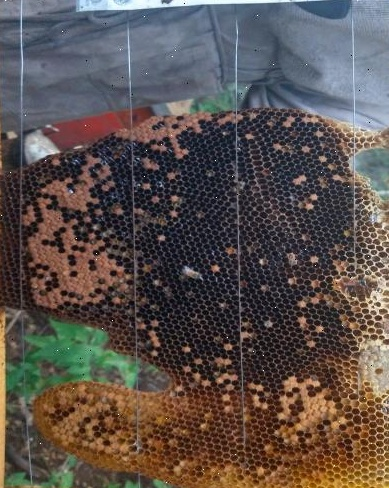cria: (20, 155, 162, 356), (115, 110, 244, 158), (42, 383, 127, 453), (277, 374, 347, 440)
